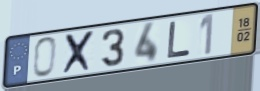0: (31, 35, 61, 80)
1: (197, 12, 215, 58)
3: (99, 28, 127, 68)
4: (131, 19, 160, 66)
L: (166, 19, 193, 61)
X: (61, 28, 98, 77)
